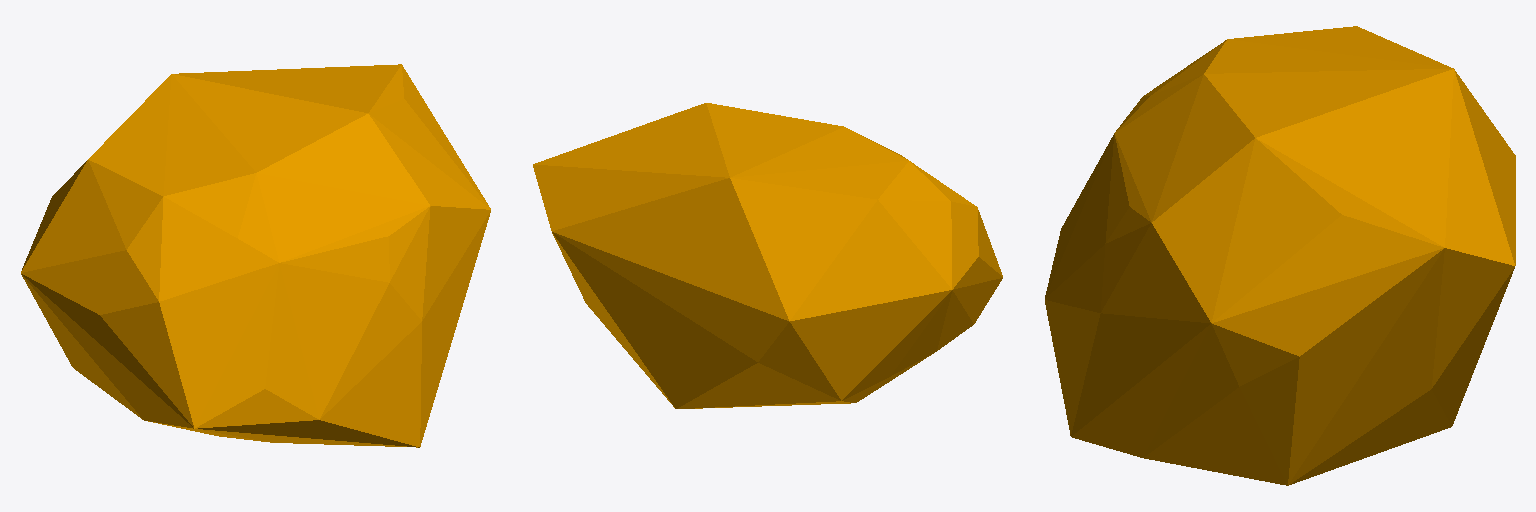
robot.urdf — 48_914:
<?xml version="1.0"?>
<robot name="48_914">
  <link name="link">
    <contact>
      <lateral_friction value="0.6"/>
    </contact>
    <inertial>
      <mass value = "0.5212299953936911"/>
      <inertia ixx="0.00025146850414349954" ixy="1.9822281801142237e-05" ixz="4.295892082527845e-06" iyy="0.00032167370327597524" iyz="2.3068744761846087e-05" izz="0.0003740049167045369" />
    </inertial>
    <visual name="visual">
      <geometry>
        <mesh filename="48_914.obj"/>
      </geometry>
    </visual>
    <collision name="collision">
      <geometry>
        <mesh filename="48_914.obj"/>
      </geometry>
    </collision>
  </link>
</robot>

--- What the picture shows (computed from the rendered views, not written in the file) ---
Views: 3 orthographic renders of the robot side by side, from view 1: azimuth 30°, elevation 25°; view 2: azimuth 150°, elevation 25°; view 3: azimuth 270°, elevation 25°.
Model 48_914 with 1 links and 0 joints (none), rooted at link, posed all joints at 0.
Visible links, largest first — view 1: link; view 2: link; view 3: link.
Boxes of the visible links, <box> form: link: <box>21,64,490,447</box>; link: <box>533,103,1002,408</box>; link: <box>1045,26,1515,485</box>.
Size in the robot's own frame: 0.0938 by 0.0752 by 0.0569 metres.
1 mesh visuals loaded from 1 distinct referenced files (1 OBJ).
